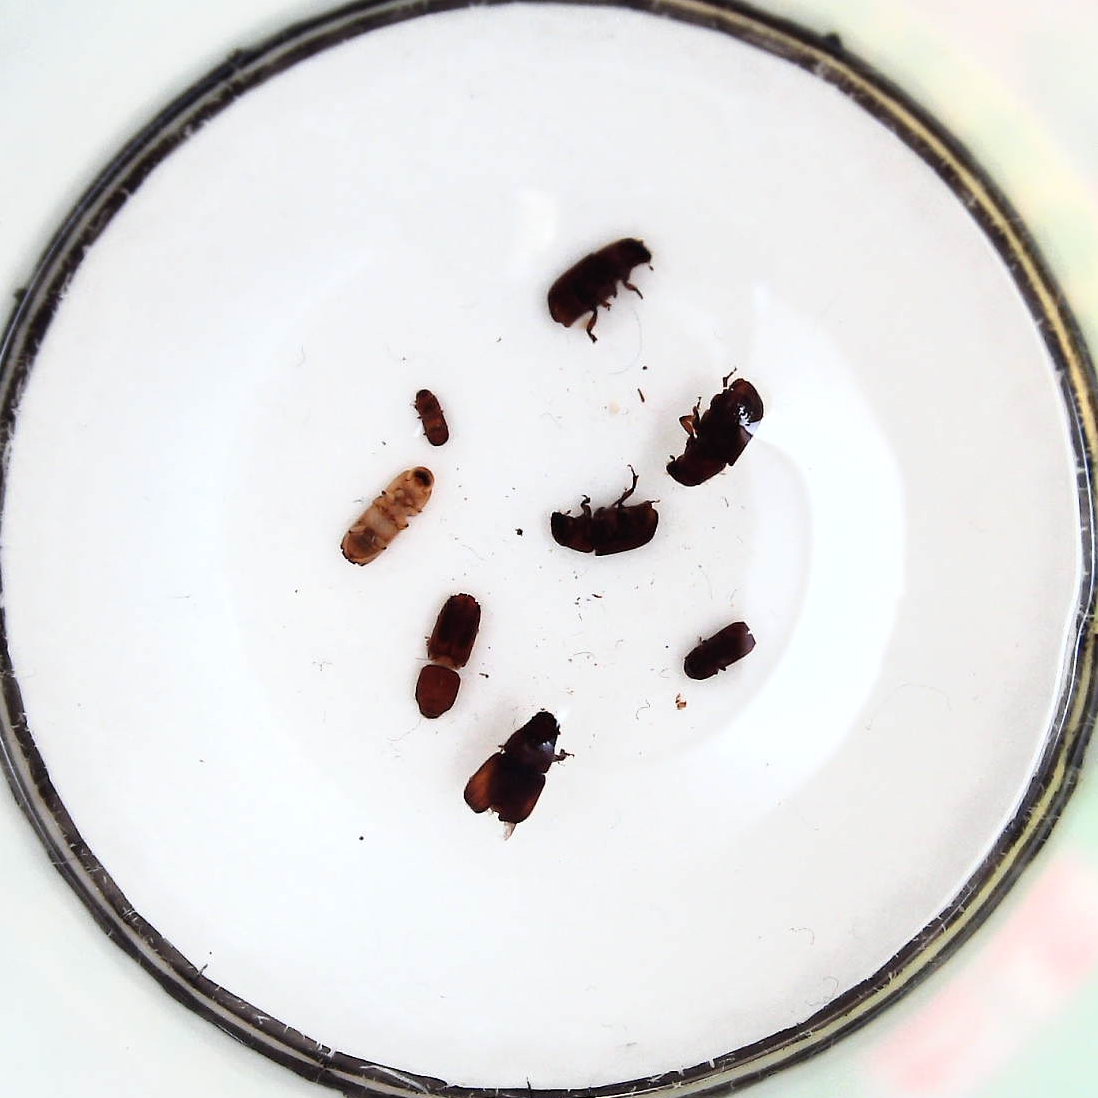Boerner: (340, 465, 437, 566), (414, 593, 485, 720)
Leconte: (463, 709, 563, 823), (665, 375, 765, 488), (545, 235, 655, 332), (549, 483, 663, 553)
Linnaeus: (678, 615, 757, 681)
acuminatus: (411, 381, 452, 448)
